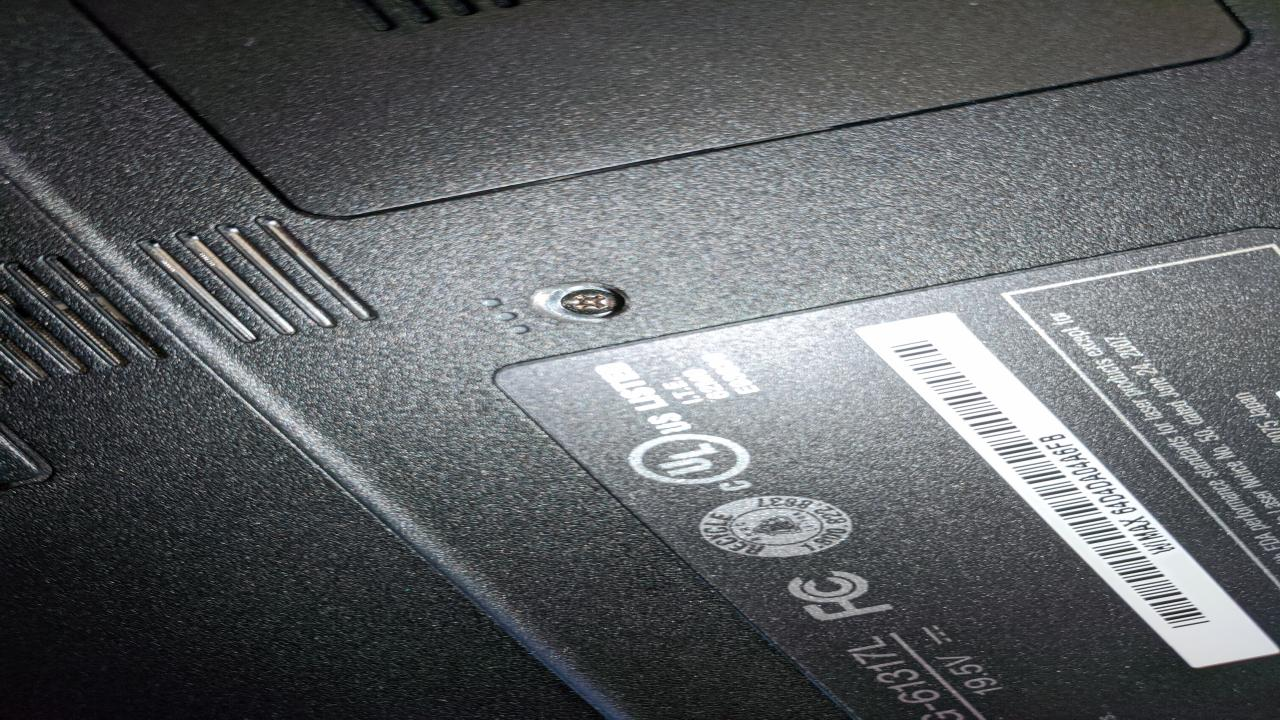CRS: (551, 289, 620, 317)
